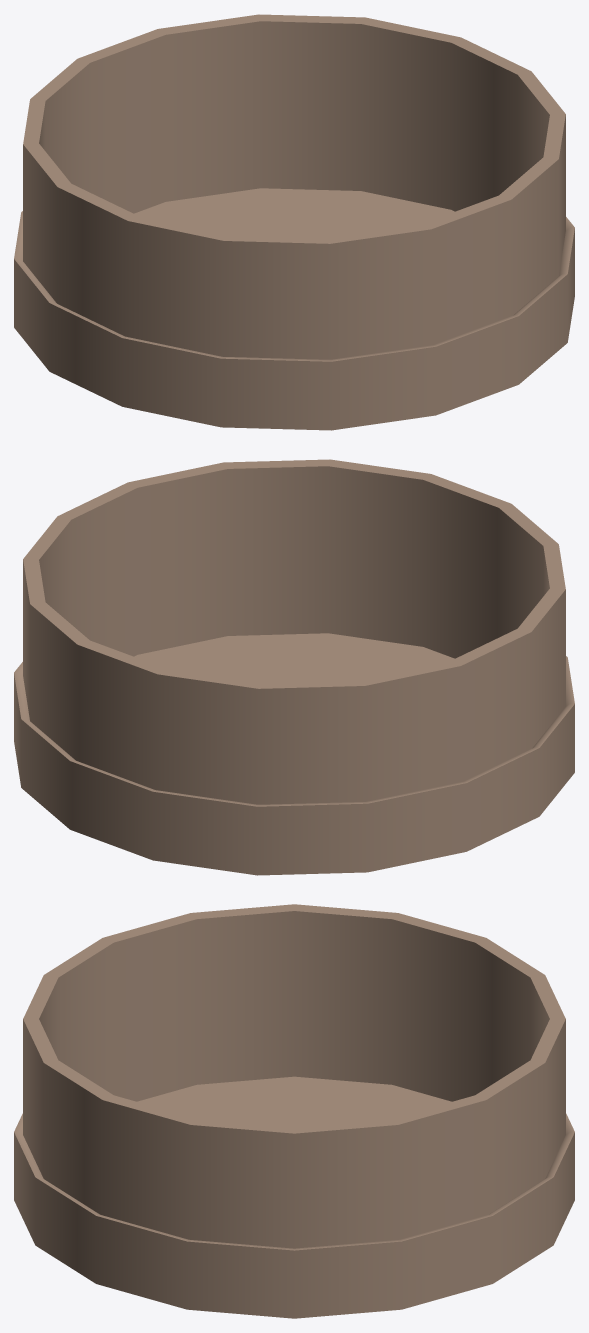
File: Sieve.fbx
The picture shows the model from 3 angles, top to bottom: view 1: azimuth 30°, elevation 25°; view 2: azimuth 150°, elevation 25°; view 3: azimuth 270°, elevation 25°; orthographic projection.
Parts seen in each view (by area): view 1: Peneira1; view 2: Peneira1; view 3: Peneira1.
Part boxes in pixels (x1,y1,x2,y2): Peneira1: (14, 14, 574, 430); Peneira1: (14, 459, 574, 875); Peneira1: (14, 904, 574, 1318).
Bounding box in the file's own units: 25.14 × 8.96 × 25.14.
